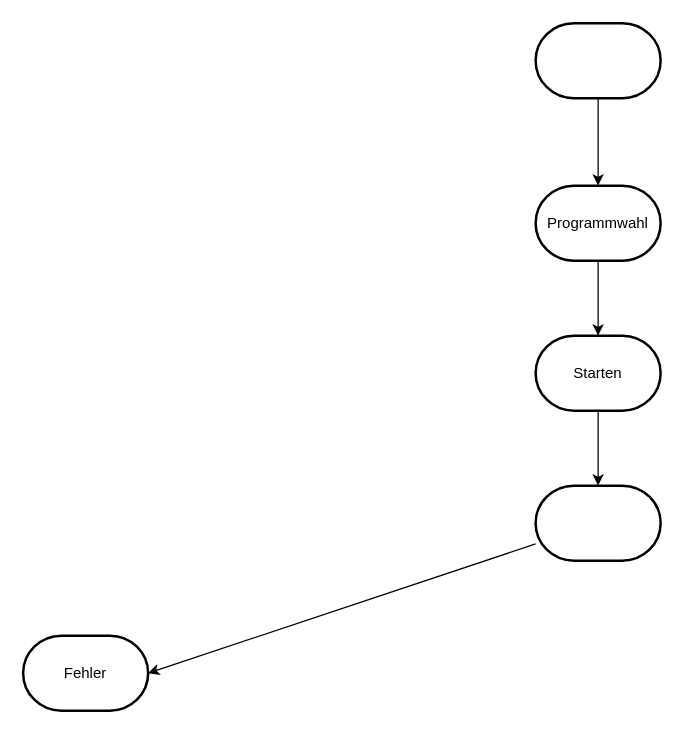
This 683x733 diagram has some shape labels left out. Each missing label, with the box of its shape:
Ausgeschaltrt: (534, 21, 661, 99)
Wasser einlassen: (534, 484, 661, 561)
